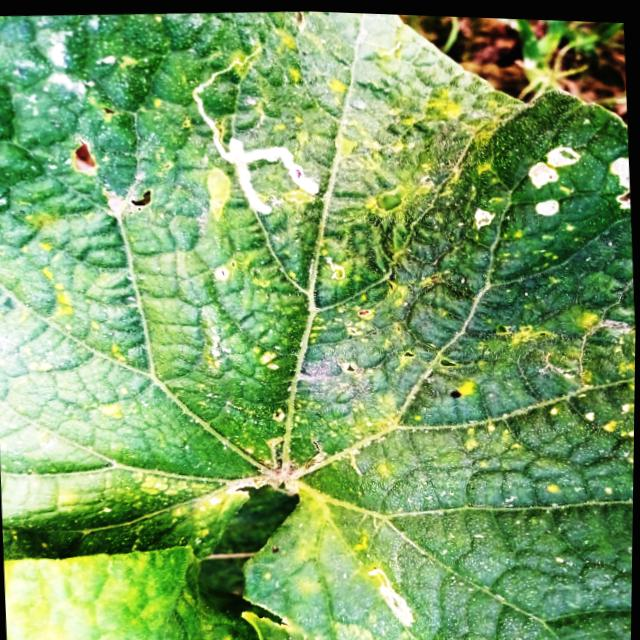Downy-Mildew: (0, 10, 636, 640)
